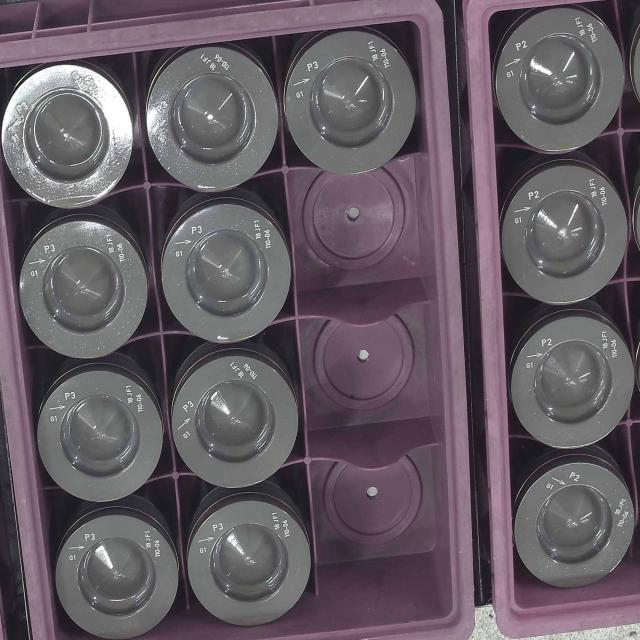P2: (495, 17, 624, 157), (504, 165, 624, 308), (509, 320, 634, 450), (515, 460, 635, 592)
P3: (144, 53, 280, 197), (4, 66, 135, 210), (16, 224, 154, 360), (161, 207, 296, 343), (286, 43, 424, 175), (181, 496, 314, 630), (172, 362, 303, 488), (34, 380, 164, 506), (52, 518, 177, 640)
